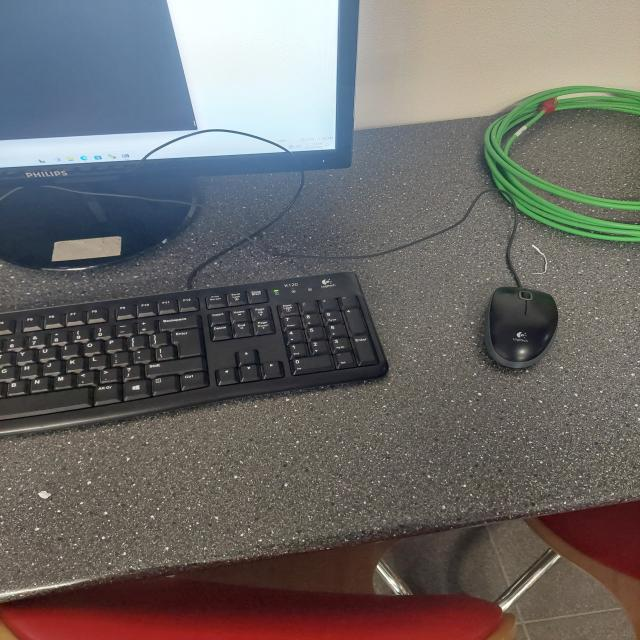mysz: (462, 274, 579, 378)
